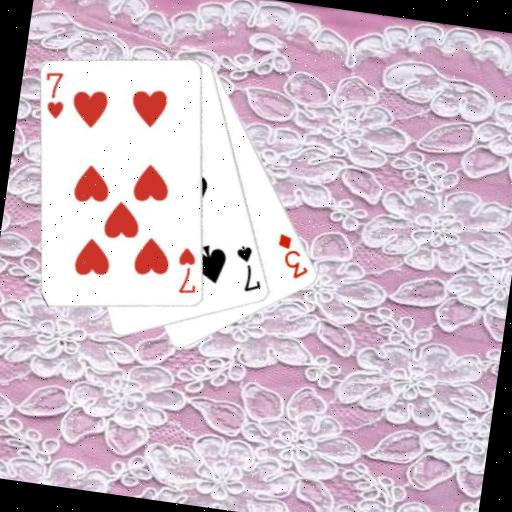3D: (271, 230, 316, 283)
7H: (38, 67, 71, 121), (172, 243, 204, 298)
7S: (228, 242, 269, 296)
